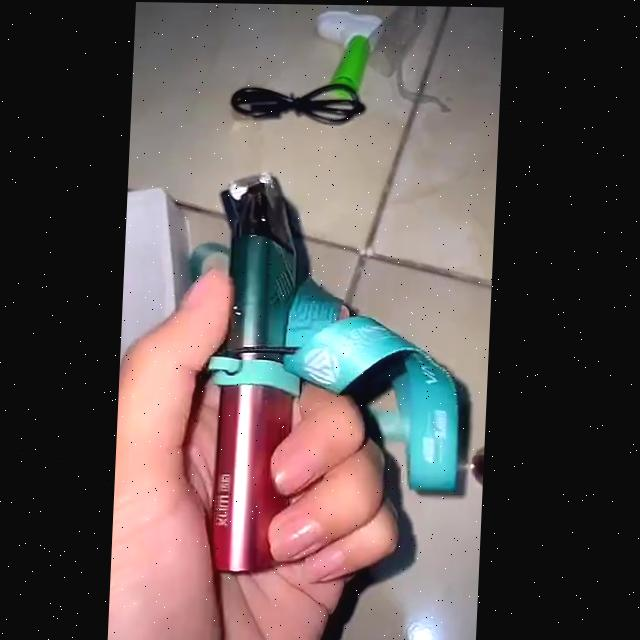vape: (217, 183, 311, 574)
